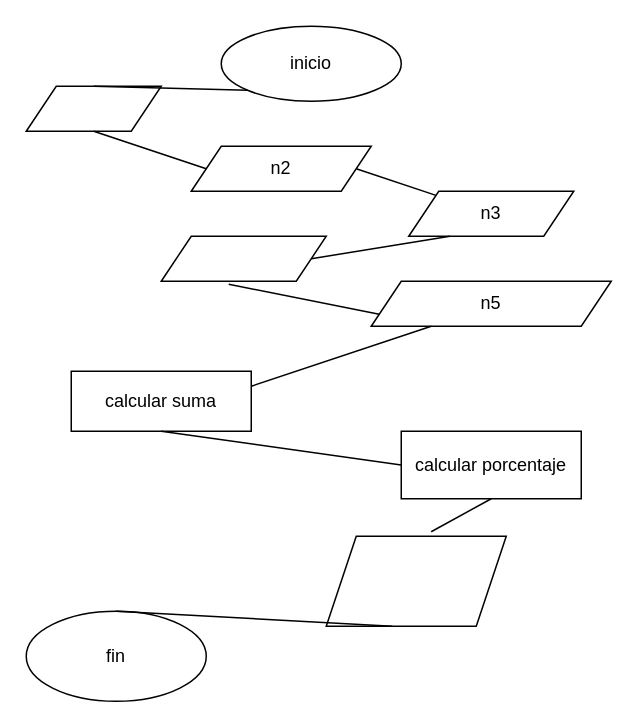
Some shapes in this 638 by 728 pixel diagram are drawn without their labels. Each missing label, with the centre of its shape:
"mostrar resultado" goes at point 415,580.
"n1" goes at point 93,108.
"n4" goes at point 243,258.
